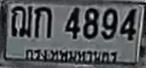4: (120, 8, 135, 40), (64, 6, 78, 38)
8: (83, 7, 98, 38)
9: (102, 7, 116, 38)
A01: (34, 6, 51, 37)
A12: (10, 5, 32, 36)
